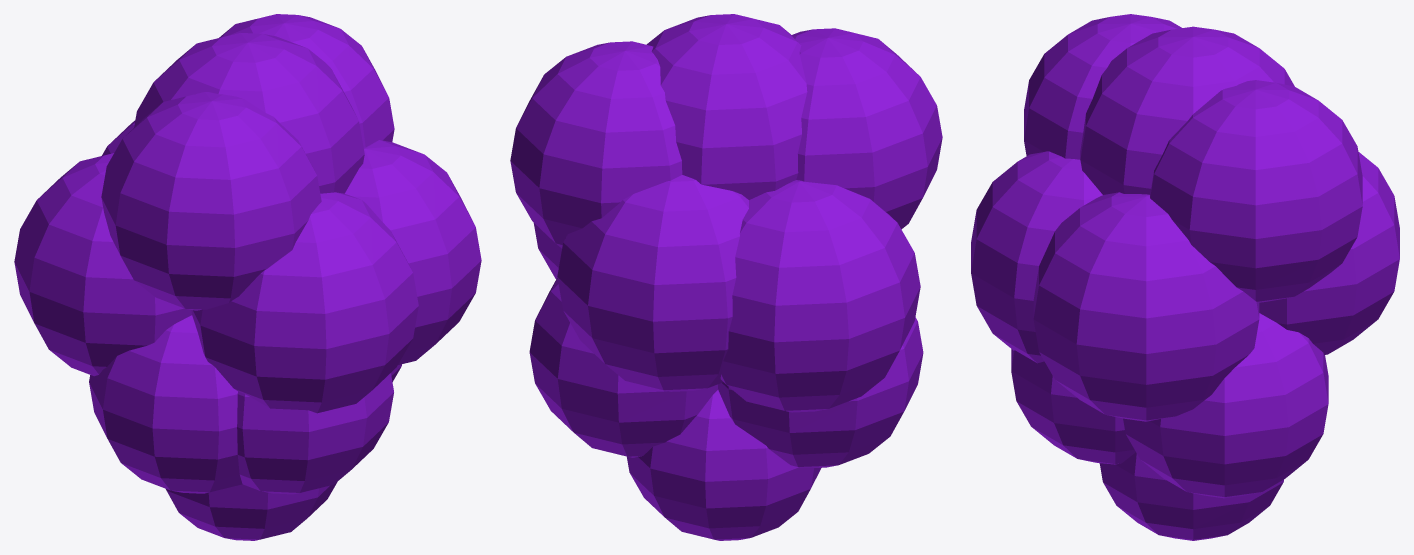
Rendered from Grape.obj.
The picture shows the model from 3 angles, left to right: view 1: azimuth 30°, elevation 25°; view 2: azimuth 150°, elevation 25°; view 3: azimuth 270°, elevation 25°; orthographic projection. The views are drawn at different scales.
Parts seen in each view (by area): view 1: Grape; view 2: Grape; view 3: Grape.
Boxes of the visible parts, x1=… form: Grape: x1=14, y1=14, x2=481, y2=540; Grape: x1=510, y1=14, x2=942, y2=540; Grape: x1=971, y1=14, x2=1399, y2=540.
Size of the model in its own units: 1.46 by 1.75 by 1.37.
